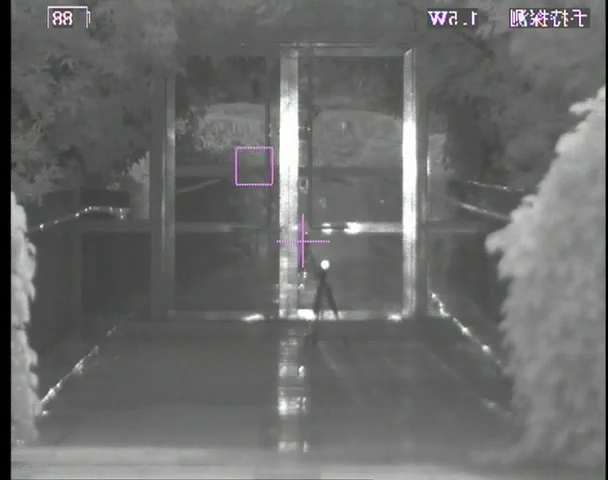my: (320, 259, 330, 270)
